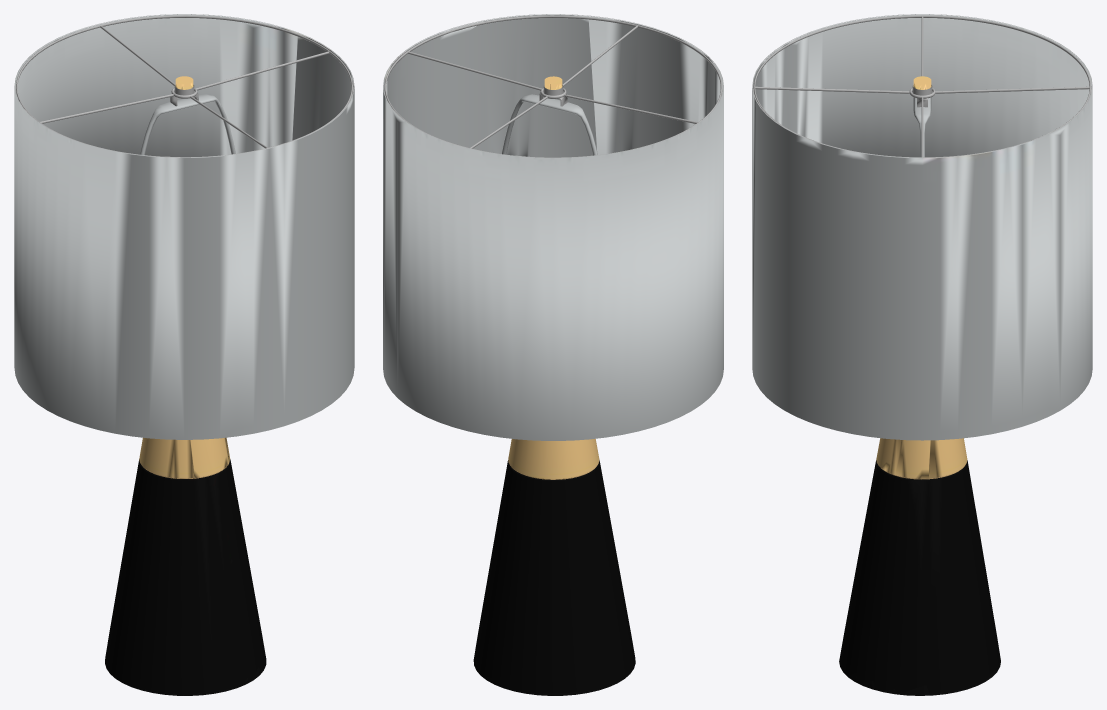
The model's file is B07HK8YHB7.glb.
3 views of the same model, side by side, from view 1: azimuth 30°, elevation 25°; view 2: azimuth 150°, elevation 25°; view 3: azimuth 270°, elevation 25° (orthographic).
Visible parts, largest first — view 1: RootNode; view 2: RootNode; view 3: RootNode.
Boxes of the visible parts, x1,y1,x2,y2 form: RootNode: [14, 14, 354, 695]; RootNode: [383, 14, 723, 695]; RootNode: [752, 14, 1092, 695].
Bounding box in the file's own units: 0.3076 × 0.58 × 0.3076.
Materials: 1 (1 with a texture image).
